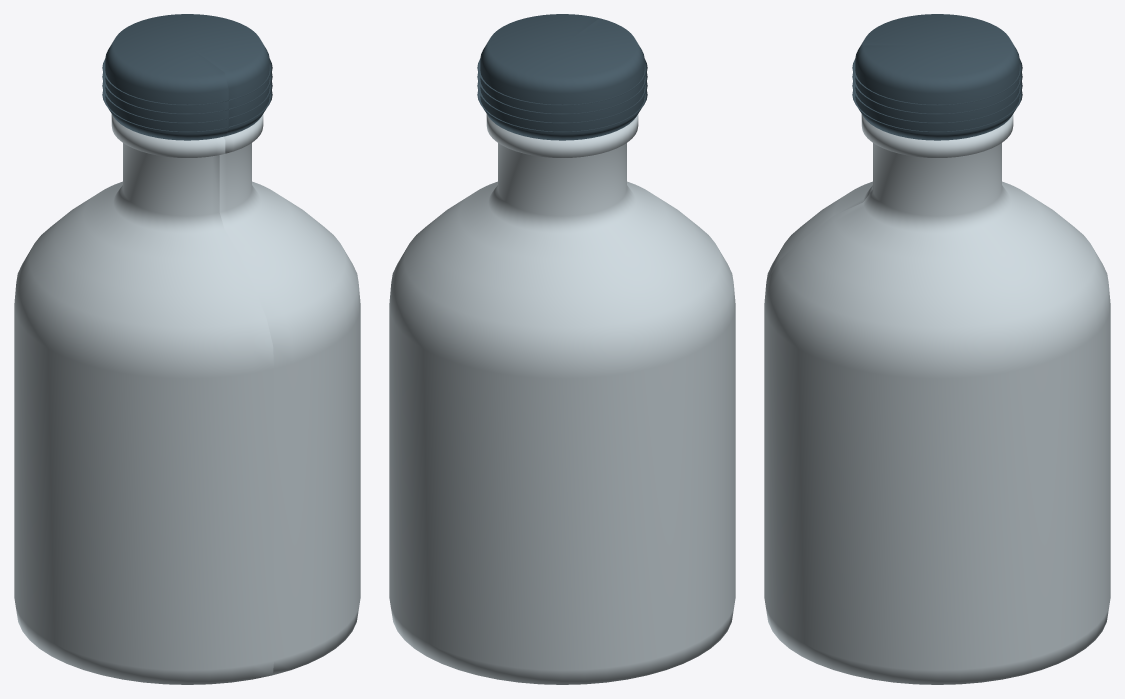
File: reagent-bottle.glb
The picture shows the model from 3 angles, left to right: view 1: azimuth 30°, elevation 25°; view 2: azimuth 150°, elevation 25°; view 3: azimuth 270°, elevation 25°; orthographic projection.
Parts seen in each view (by area): view 1: GlassShell, Cap; view 2: GlassShell, Cap; view 3: GlassShell, Cap.
Part boxes in pixels (<box>): GlassShell: <box>14,114,360,684</box>; Cap: <box>105,14,269,140</box>; GlassShell: <box>389,114,735,684</box>; Cap: <box>480,14,644,140</box>; GlassShell: <box>764,114,1110,684</box>; Cap: <box>855,14,1019,140</box>.
Size of the model in its own units: 0.7 by 1.28 by 0.7.
